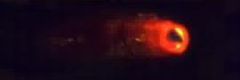keyhole: (165, 27, 185, 44)
